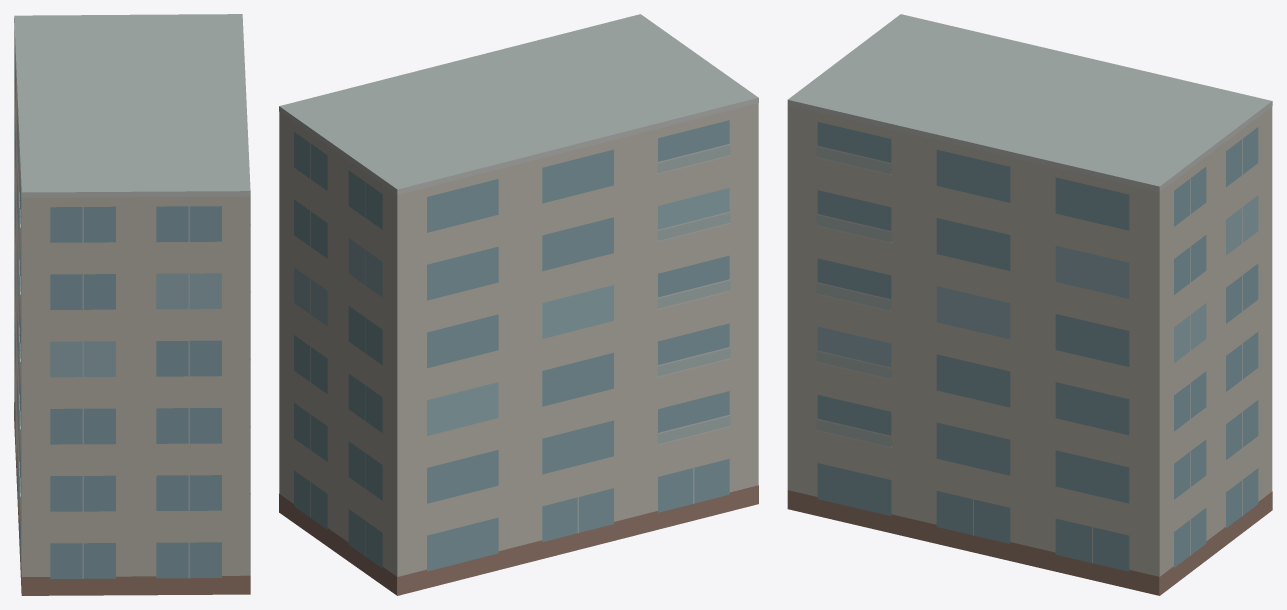
File: survey-upis-32942309.glb
The picture shows the model from 3 angles, left to right: view 1: azimuth 30°, elevation 25°; view 2: azimuth 150°, elevation 25°; view 3: azimuth 270°, elevation 25°; orthographic projection.
Parts seen in each view (by area): view 1: survey-upis-32942309.tmp; view 2: survey-upis-32942309.tmp; view 3: survey-upis-32942309.tmp.
Part boxes in pixels (x1=…): survey-upis-32942309.tmp: x1=14, y1=14, x2=250, y2=595; survey-upis-32942309.tmp: x1=279, y1=14, x2=758, y2=595; survey-upis-32942309.tmp: x1=787, y1=14, x2=1272, y2=595.
Bounding box in the file's own units: 16.55 × 18.3 × 19.65.
